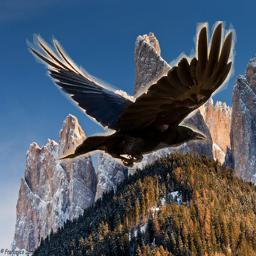Crow: (26, 21, 237, 169)
